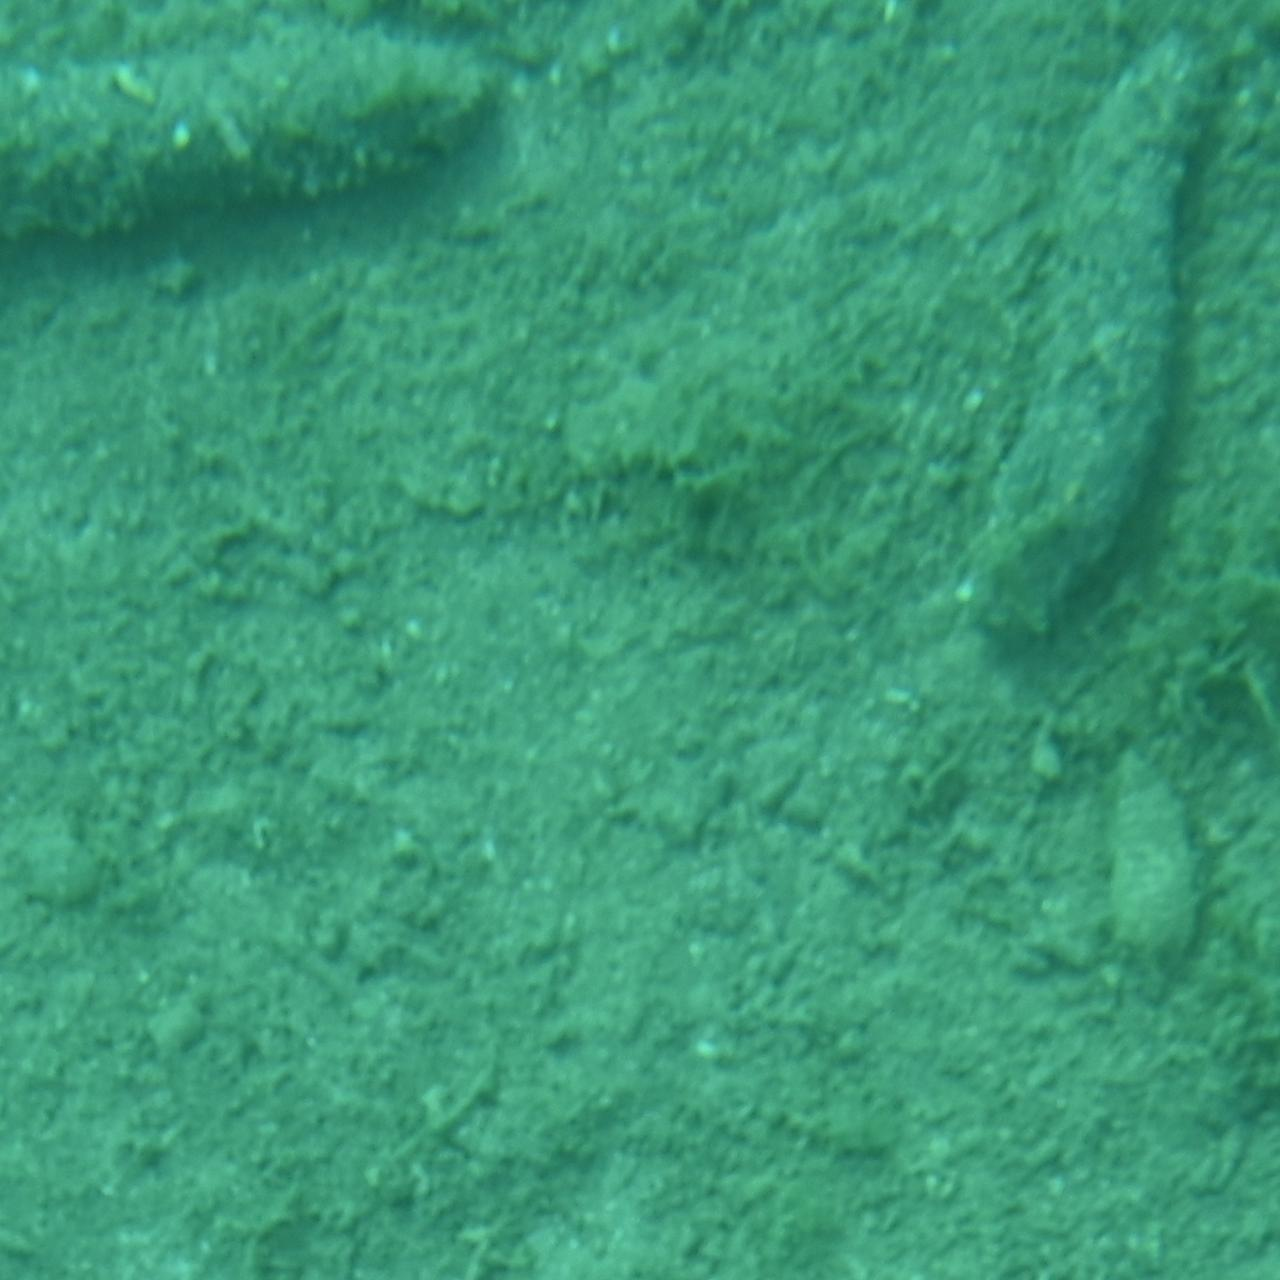Holothuria tubulosa: (961, 21, 1231, 674), (0, 25, 510, 295)
